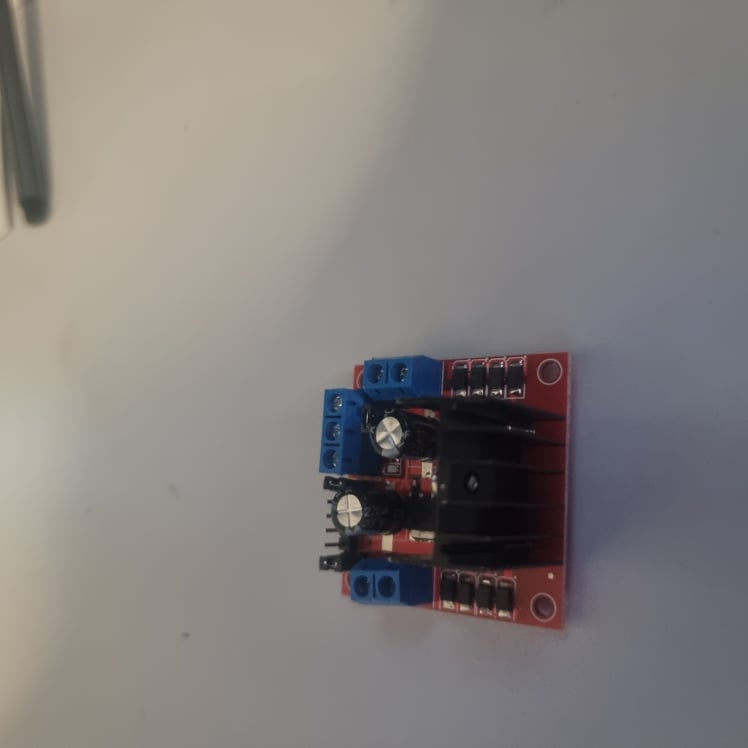MOTOR: (312, 354, 575, 634)
